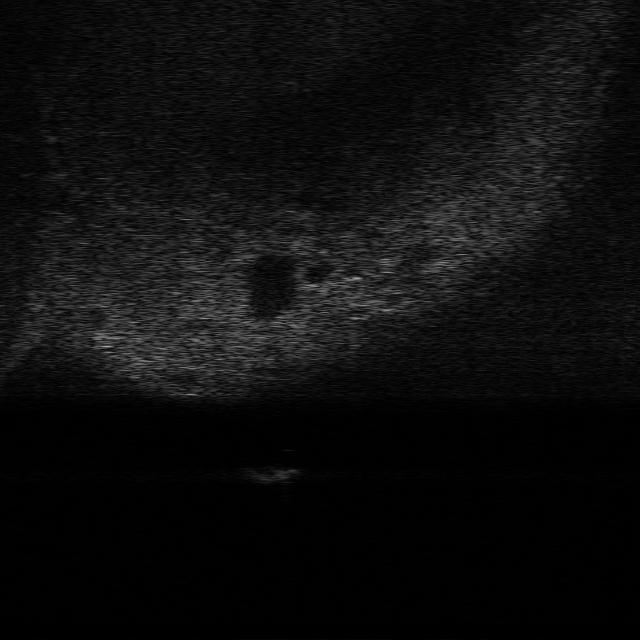cube: (245, 464, 297, 483)
